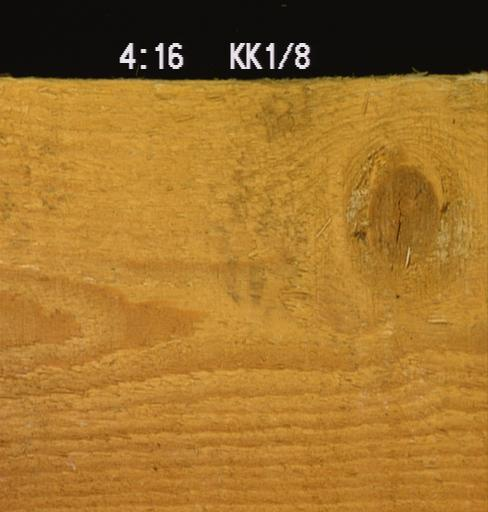sound_knot: (343, 142, 458, 275)
